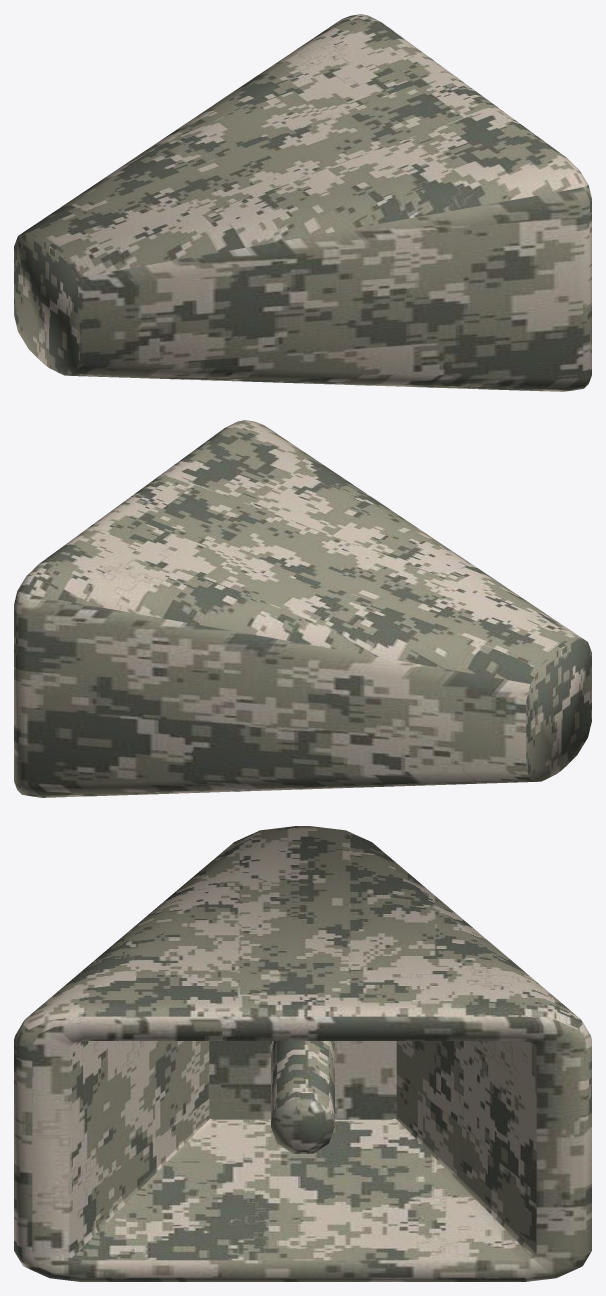
The model's file is speaker.fbx.
The picture shows the model from 3 angles, top to bottom: view 1: azimuth 30°, elevation 25°; view 2: azimuth 150°, elevation 25°; view 3: azimuth 270°, elevation 25°; orthographic projection. The views are drawn at different scales.
Parts seen in each view (by area): view 1: Cube; view 2: Cube; view 3: Cube.
Boxes of the visible parts, <box> form: Cube: <box>14,14,591,391</box>; Cube: <box>14,420,591,797</box>; Cube: <box>14,826,591,1281</box>.
Size of the model in its own units: 53.64 by 27.2 by 52.17.
